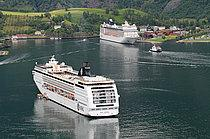Ship: (31, 54, 126, 126), (100, 20, 142, 50)
